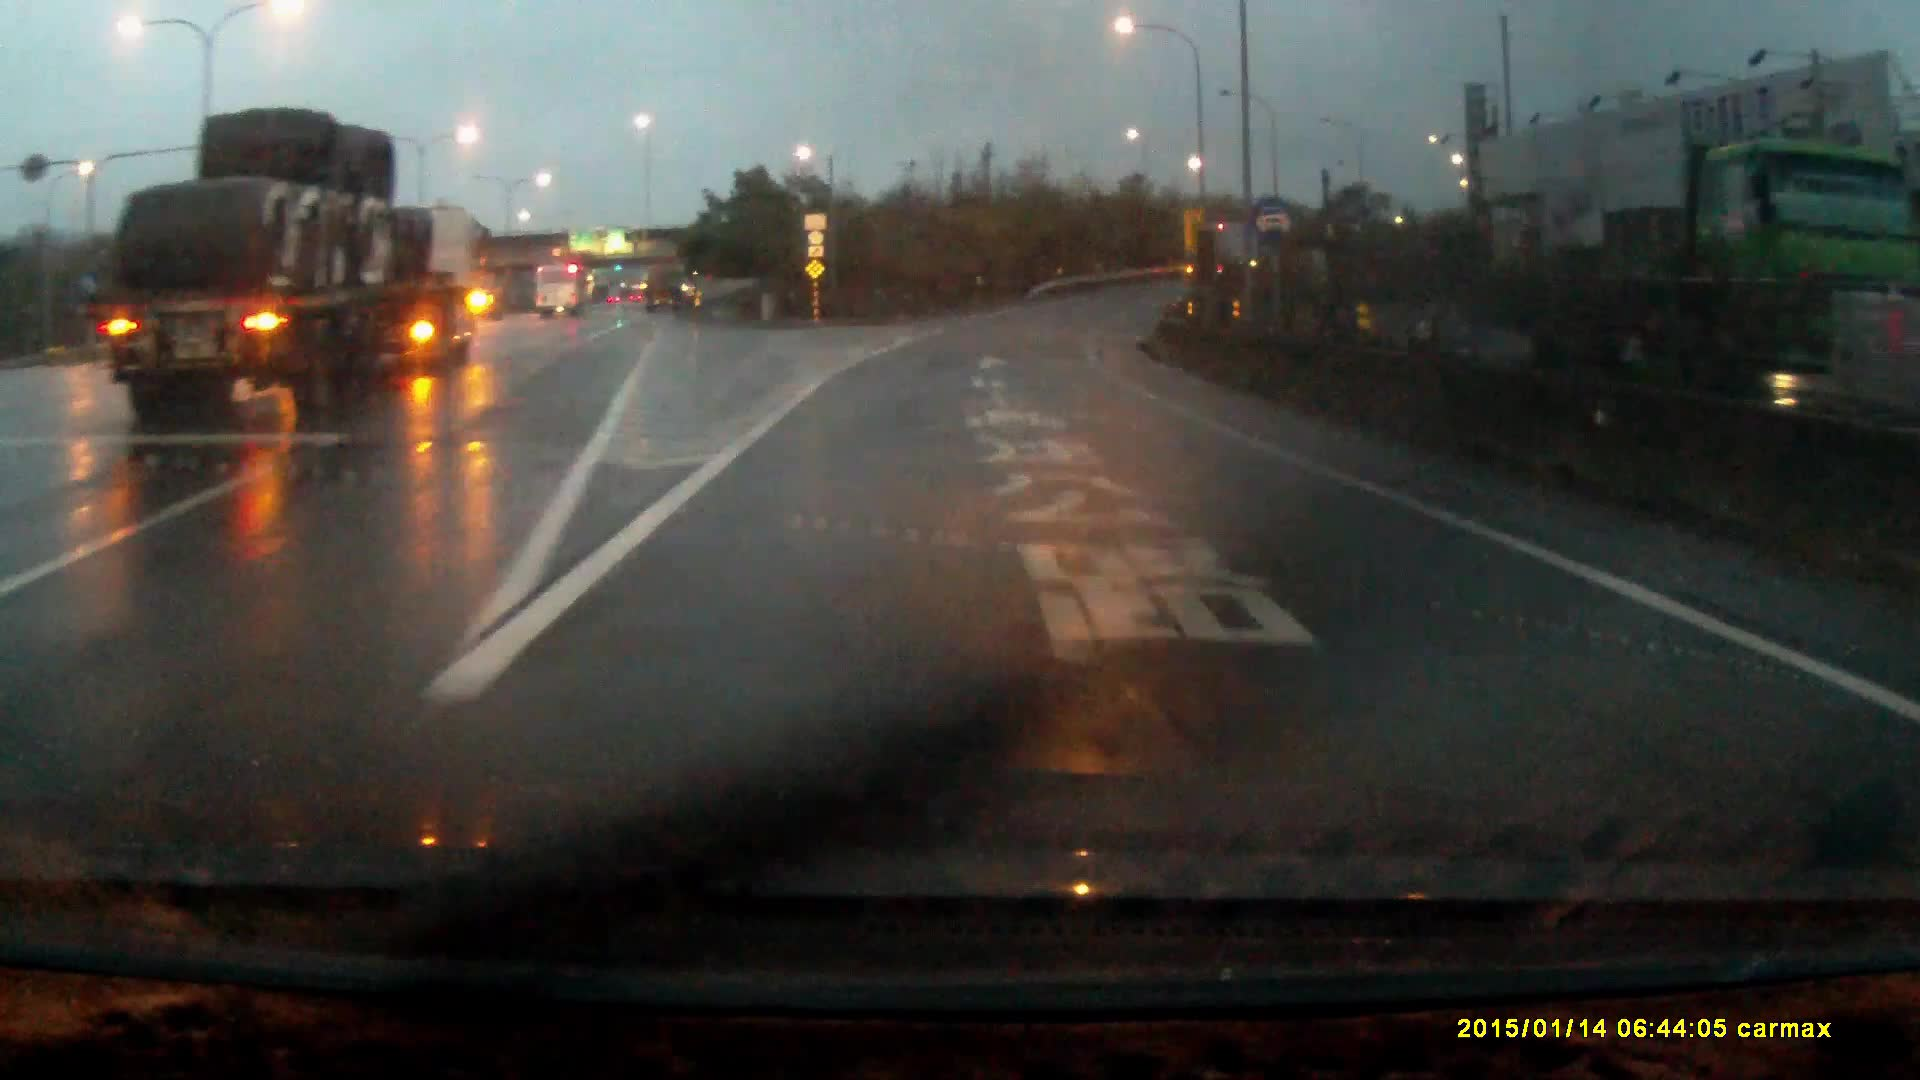vehicle: (84, 111, 489, 413), (535, 265, 589, 323)
